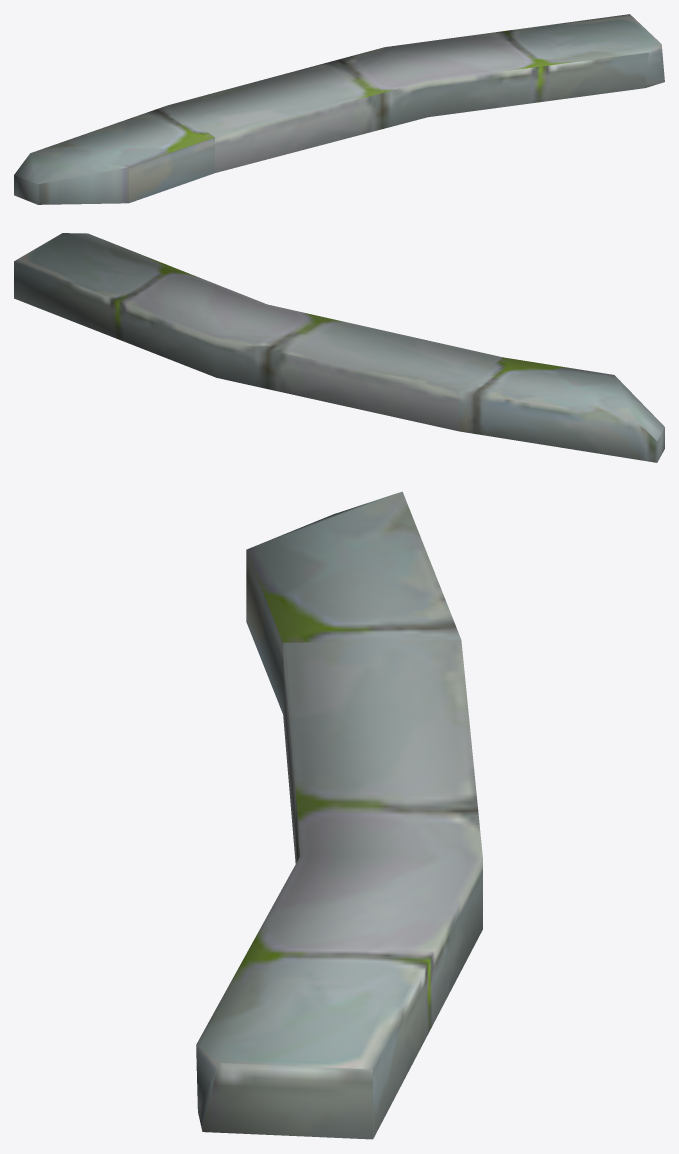
Rendered from Map_06_brick07.FBX.
3 renders of one model, top to bottom at view 1: azimuth 30°, elevation 25°; view 2: azimuth 150°, elevation 25°; view 3: azimuth 270°, elevation 25°, orthographic. The views are drawn at different scales.
Visible parts, largest first — view 1: Map_06_brick07; view 2: Map_06_brick07; view 3: Map_06_brick07.
Boxes of the visible parts, x1=… form: Map_06_brick07: x1=14, y1=14, x2=664, y2=204; Map_06_brick07: x1=14, y1=233, x2=664, y2=462; Map_06_brick07: x1=196, y1=491, x2=482, y2=1139.
Bounding box in the file's own units: 515 × 105 × 29.52.
